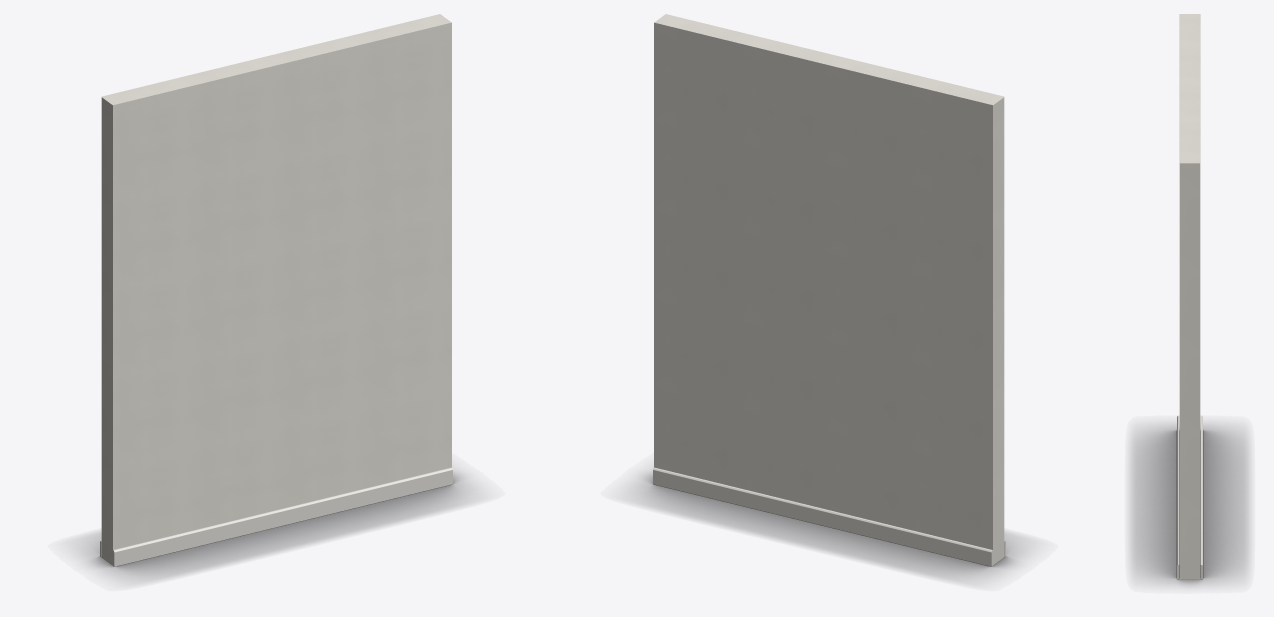
File: wall.glb
3 renders of one model, left to right at view 1: azimuth 30°, elevation 25°; view 2: azimuth 150°, elevation 25°; view 3: azimuth 270°, elevation 25°, orthographic. The views are drawn at different scales.
Parts seen in each view (by area): view 1: wall_LOD0, wall_Shadow; view 2: wall_LOD0, wall_Shadow; view 3: wall_Shadow, wall_LOD0.
Boxes of the visible parts, bbox=[...] form: wall_LOD0: bbox=[100, 14, 452, 566]; wall_Shadow: bbox=[81, 471, 471, 580]; wall_LOD0: bbox=[653, 14, 1005, 566]; wall_Shadow: bbox=[634, 471, 1024, 580]; wall_Shadow: bbox=[1131, 424, 1248, 585]; wall_LOD0: bbox=[1177, 14, 1202, 579].
Size of what is drawn, in the model's own units: 2.64 by 2.6 by 0.788.
Materials: 3 (2 with a texture image).
